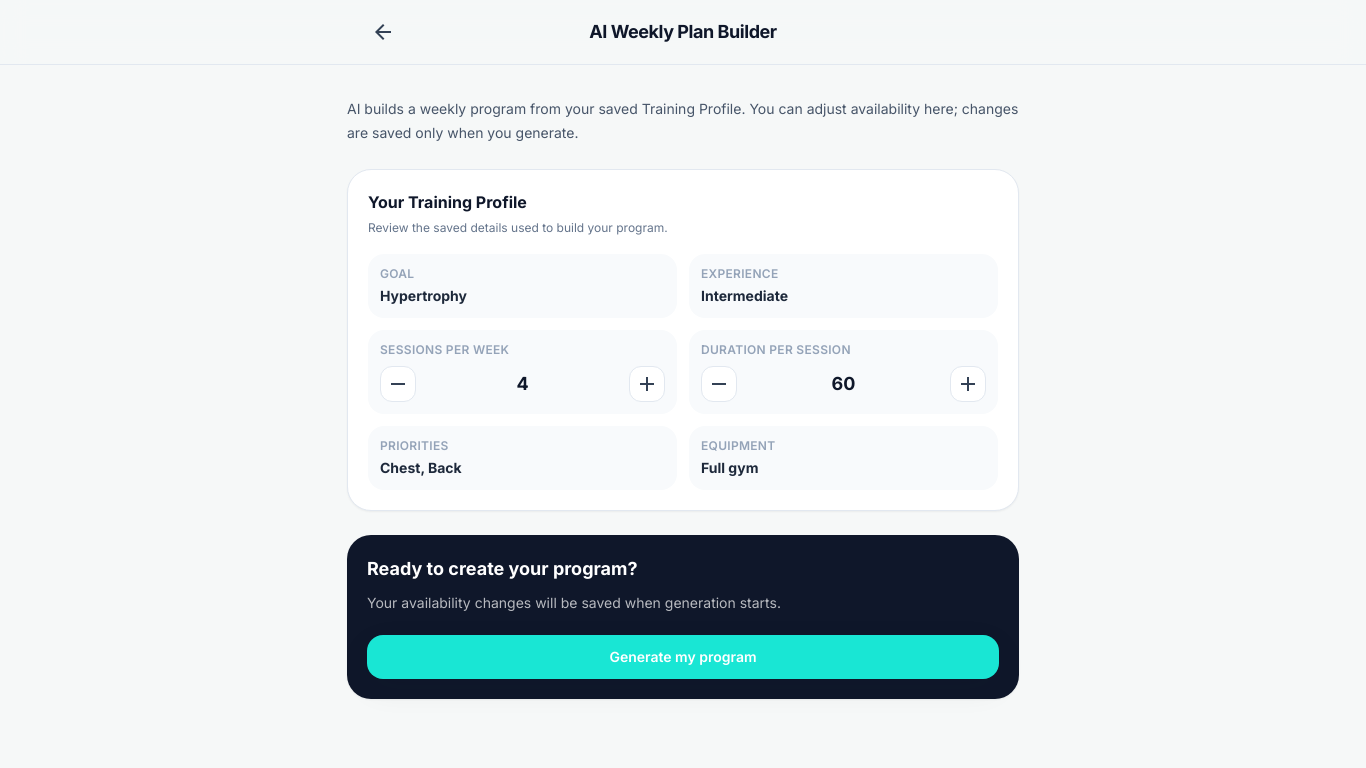
plus and minus use adjacent backend-provided session and duration values locally
Expected: the text "Hypertrophy" is shown, [380,287,467,304]
Click the button named "Increase sessions per week": (647, 384) [629,366,665,402]
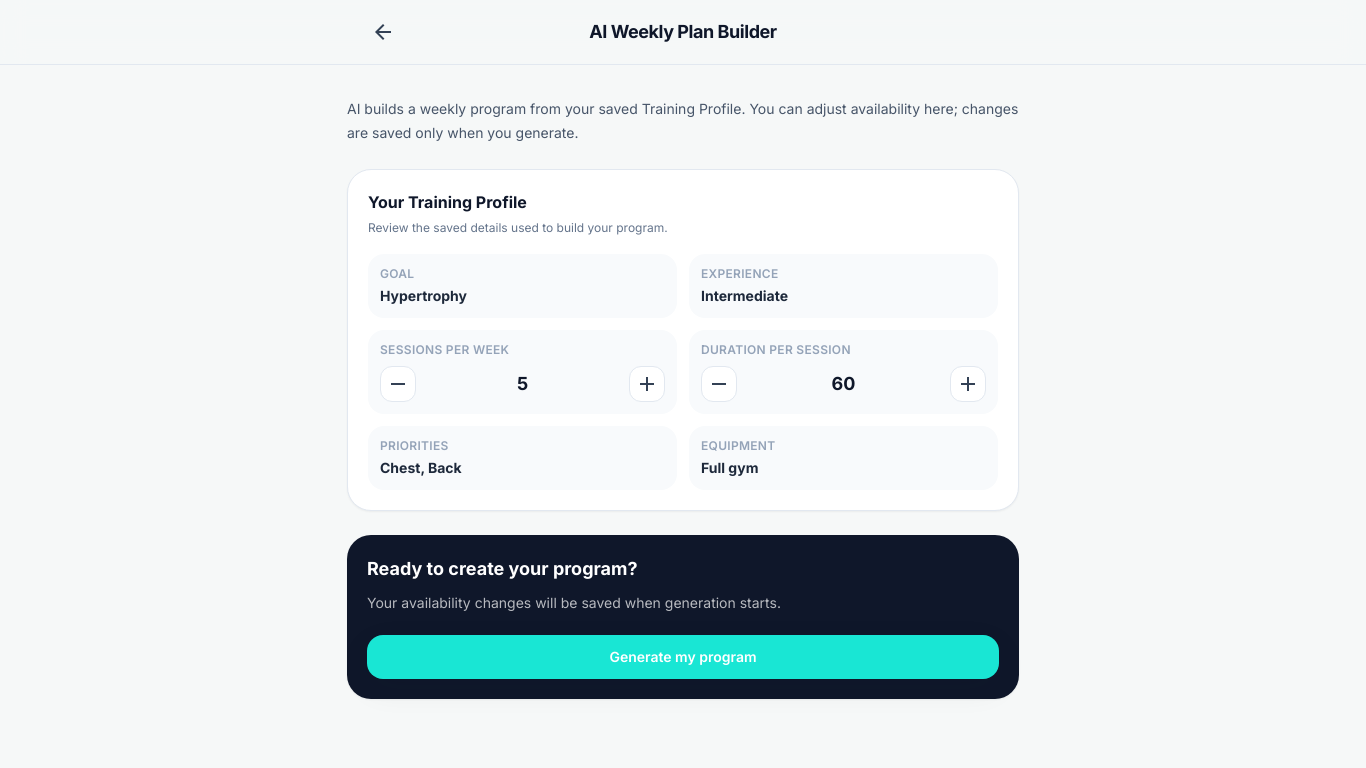
Click the button named "Decrease duration per session": (719, 384) [701,366,737,402]
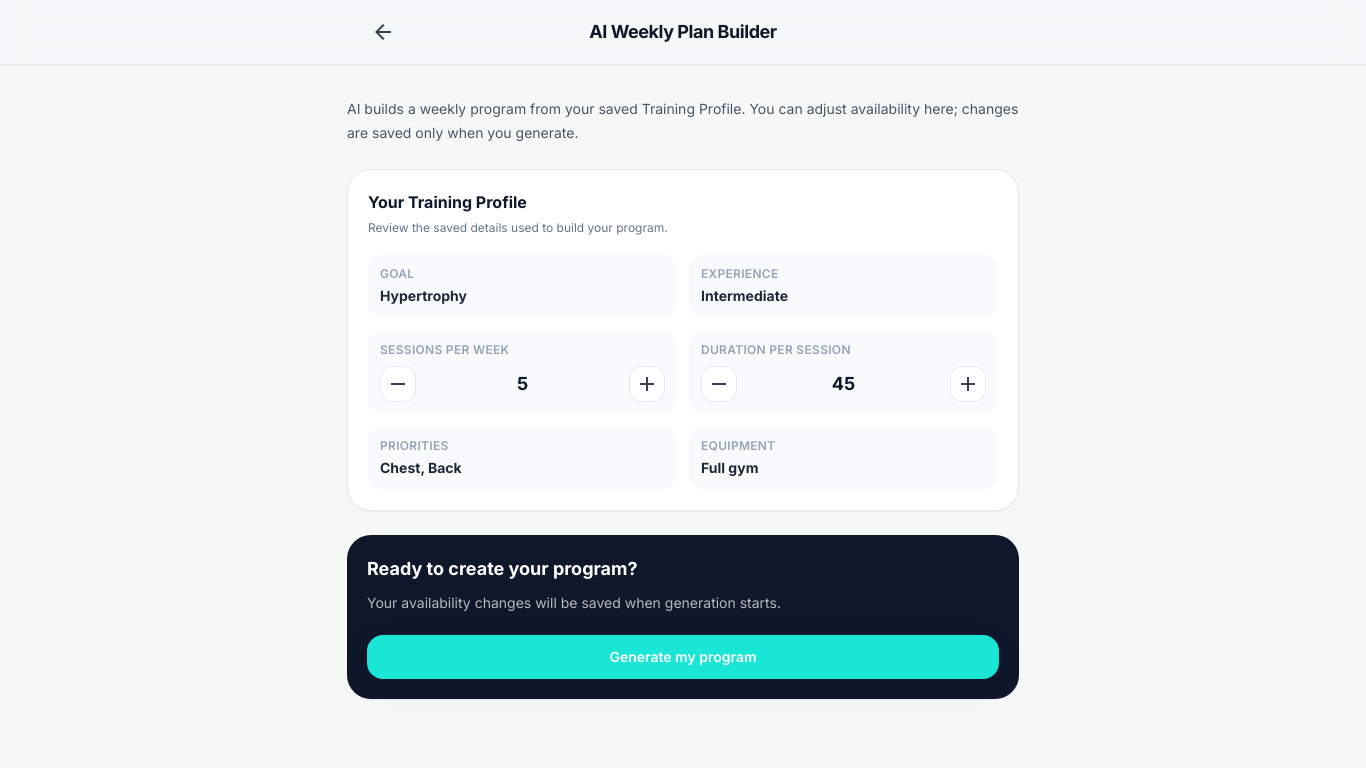
Result: the text "5" is shown at [517,373,528,394]
Result: the text "45" is shown at [832,373,855,394]
